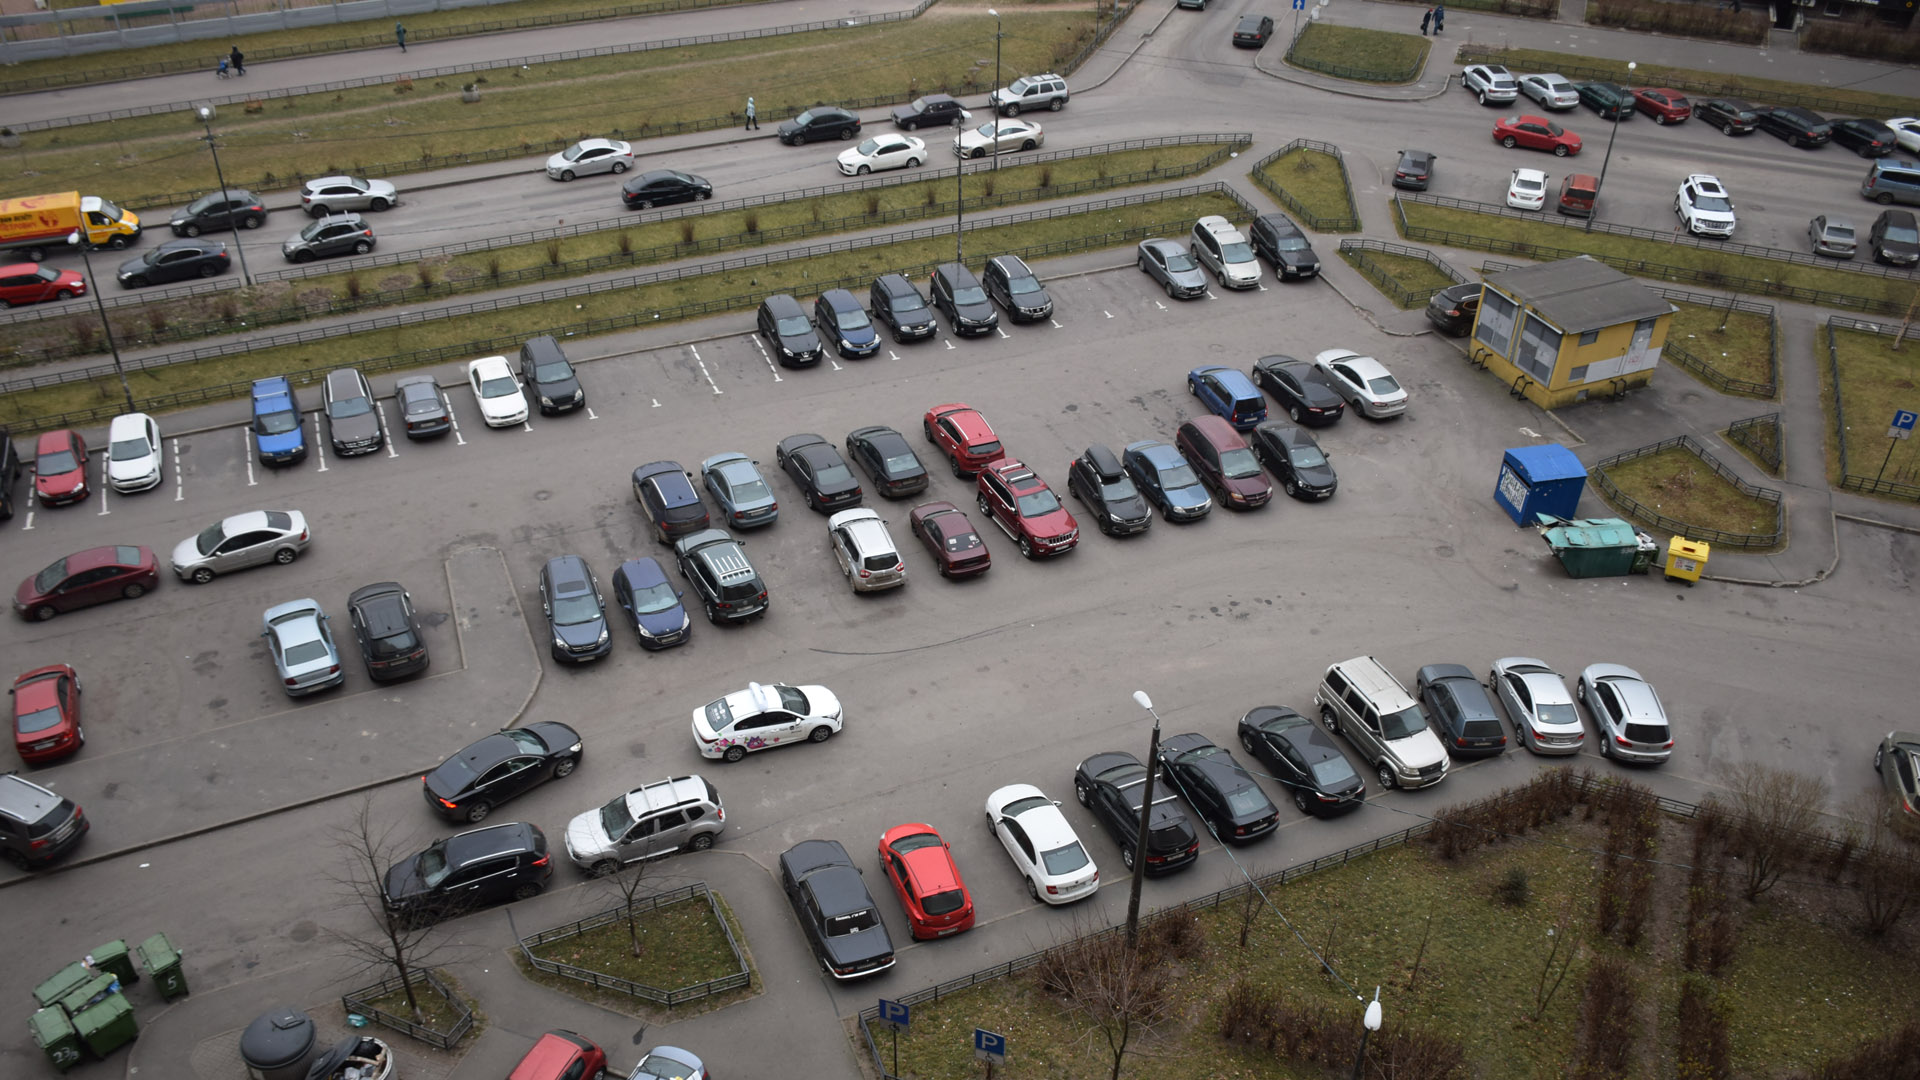Car: (1315, 655, 1449, 789), (382, 822, 553, 920), (779, 840, 895, 980), (566, 775, 727, 876), (425, 723, 583, 822), (1073, 752, 1199, 874), (1155, 732, 1279, 848), (985, 785, 1098, 905), (1238, 705, 1365, 812), (691, 683, 843, 762), (878, 822, 975, 940), (15, 545, 157, 621), (976, 458, 1079, 558), (0, 191, 144, 262), (171, 510, 313, 583), (1577, 663, 1675, 764), (1489, 657, 1585, 754), (675, 527, 769, 622), (1176, 415, 1273, 508), (347, 582, 429, 682), (1416, 665, 1506, 756), (0, 774, 88, 866), (262, 599, 344, 698), (541, 556, 612, 663), (1068, 444, 1151, 535), (11, 662, 84, 764), (613, 558, 691, 649), (1124, 440, 1211, 521), (1250, 421, 1338, 500), (777, 434, 862, 512), (829, 508, 907, 593), (1315, 349, 1408, 421), (632, 460, 711, 543), (1250, 355, 1344, 425), (909, 502, 992, 576), (924, 404, 1006, 477), (700, 454, 779, 529), (845, 426, 927, 498), (117, 240, 229, 290), (322, 368, 384, 456), (1191, 216, 1263, 289), (502, 1030, 607, 1080), (1188, 367, 1269, 430), (930, 262, 998, 336), (520, 338, 585, 414), (1874, 731, 1920, 839), (982, 255, 1054, 324), (1249, 214, 1321, 282), (284, 211, 375, 264), (169, 189, 266, 237), (870, 273, 938, 343), (757, 295, 823, 367), (252, 377, 305, 464), (815, 290, 881, 359), (467, 357, 529, 429), (109, 413, 164, 493), (1137, 237, 1207, 299), (1673, 173, 1737, 237), (301, 175, 397, 218), (36, 430, 88, 506), (0, 262, 87, 309), (546, 137, 636, 181), (952, 117, 1044, 160), (621, 169, 716, 210), (837, 133, 928, 175), (1491, 115, 1582, 156), (989, 73, 1071, 117), (396, 376, 451, 438), (1754, 105, 1832, 148), (778, 107, 862, 145), (1424, 282, 1482, 335), (1870, 210, 1920, 269), (628, 1044, 708, 1080), (890, 94, 967, 131), (1828, 117, 1898, 157), (1861, 158, 1920, 204), (1692, 98, 1758, 135), (1461, 63, 1518, 105), (1572, 82, 1636, 119), (1515, 73, 1580, 109), (1807, 214, 1858, 258), (1630, 87, 1689, 123), (1505, 167, 1549, 211), (0, 427, 20, 520), (1557, 174, 1600, 216), (1393, 150, 1435, 191), (1886, 117, 1920, 158), (1232, 15, 1274, 47), (1178, 0, 1209, 11)
